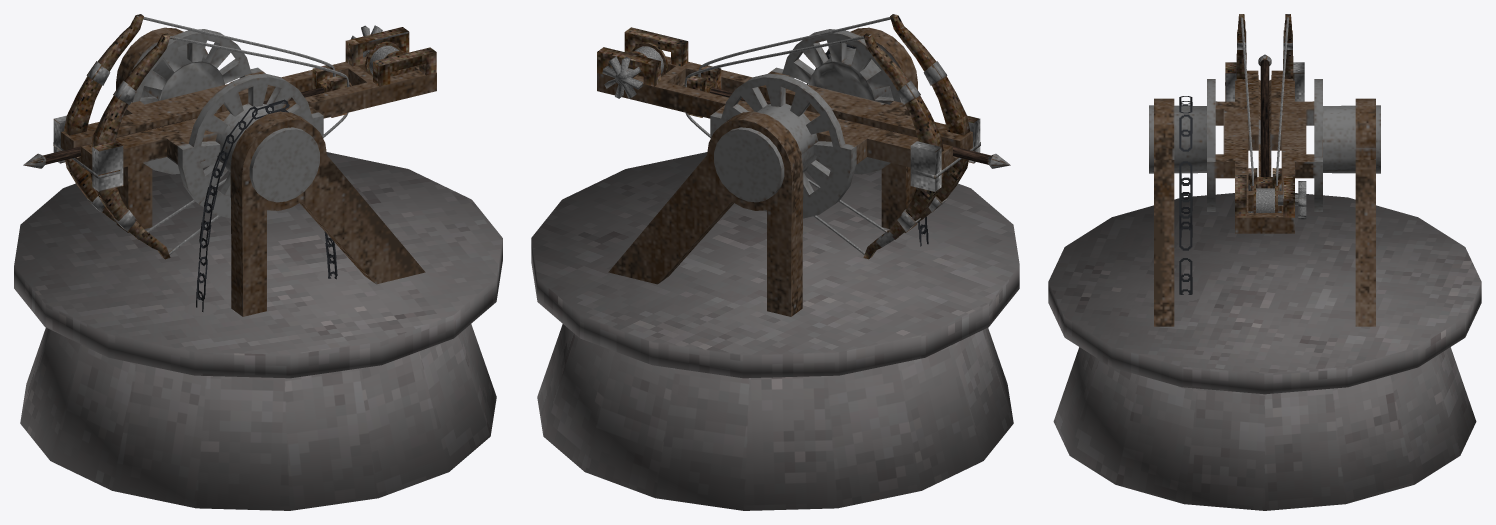
File: Balista2.fbx
3 renders of one model, left to right at view 1: azimuth 30°, elevation 25°; view 2: azimuth 150°, elevation 25°; view 3: azimuth 270°, elevation 25°, orthographic. The views are drawn at different scales.
Parts seen in each view (by area): view 1: Cylinder.001, Cylinder.002, Cylinder.003; view 2: Cylinder.001, Cylinder.002; view 3: Cylinder.001, Cylinder.002, Cylinder.003.
Boxes of the visible parts, bbox=[...] form: Cylinder.001: bbox=[14, 152, 502, 510]; Cylinder.002: bbox=[23, 14, 436, 316]; Cylinder.003: bbox=[196, 99, 337, 311]; Cylinder.001: bbox=[531, 152, 1019, 510]; Cylinder.002: bbox=[597, 14, 1010, 316]; Cylinder.001: bbox=[1048, 193, 1481, 510]; Cylinder.002: bbox=[1149, 14, 1380, 326]; Cylinder.003: bbox=[1179, 96, 1192, 294].
Size of the model in its own units: 0.6343 by 0.5547 by 0.6035.
4 materials, 4 textured.
